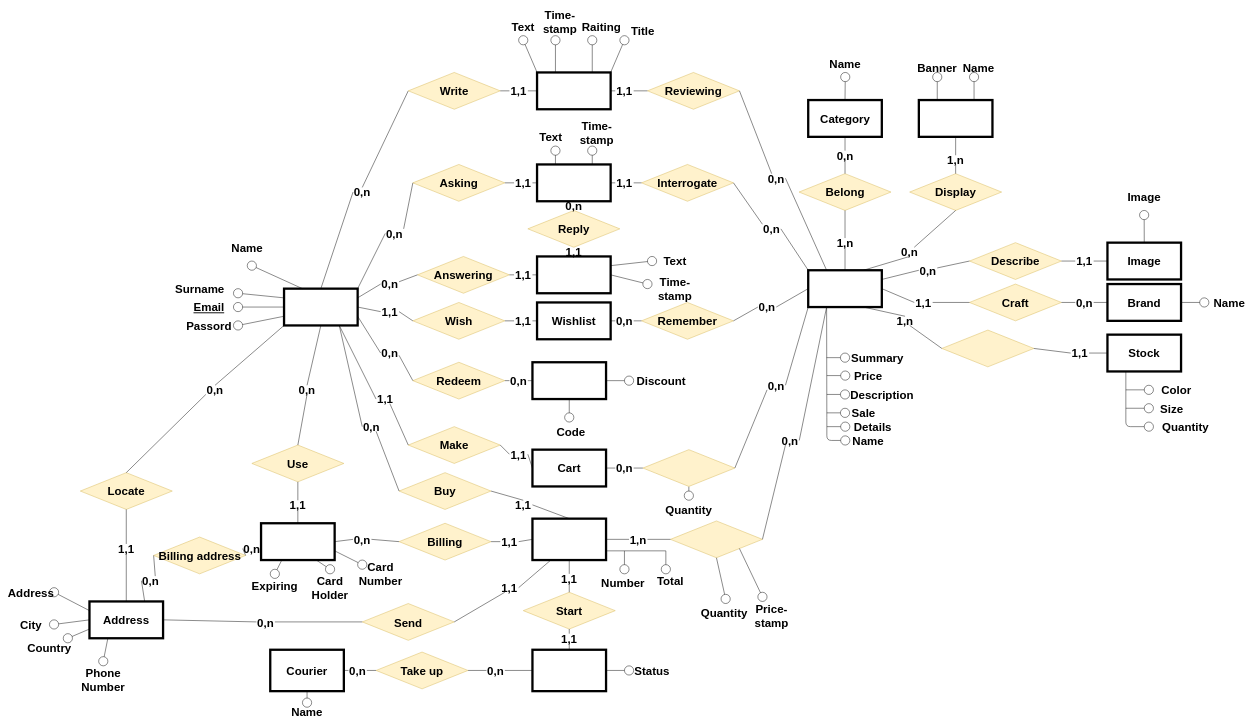
Some shapes in this 1253 by 726 pixel diagram are drawn without their labels. Each missing label, with the box of its shape:
Answer: (536, 255, 612, 294)
Compose: (670, 520, 762, 558)
Contain: (642, 449, 735, 486)
Coupon: (531, 361, 607, 400)
Distinguish: (941, 330, 1034, 367)
Order: (531, 517, 607, 561)
Paymant Method: (260, 522, 336, 561)
Product: (807, 269, 883, 308)
Question: (536, 163, 612, 202)
Review: (536, 71, 612, 110)
Shipping: (531, 648, 607, 692)
Showcase: (917, 99, 993, 138)
User: (283, 287, 359, 326)
